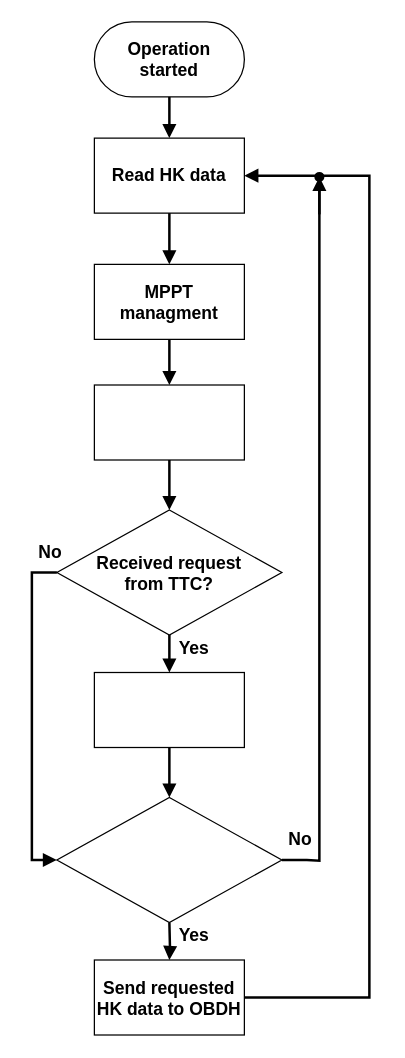
This 405x1058 diagram has some shape labels left out. Here are the shapes that lost their labels. From the top down, the box of each, then its label:
(93, 384, 244, 460): Heater managment
(93, 671, 244, 748): Send requested HK data to TTC
(56, 796, 282, 922): Received request from OBDH?
